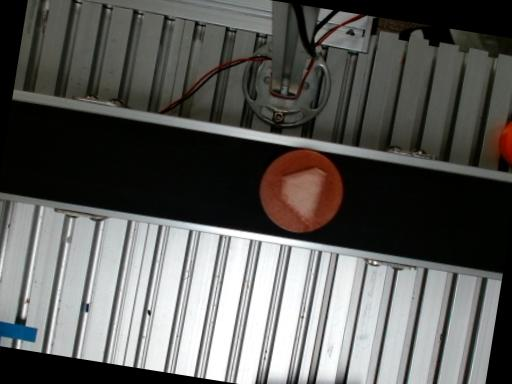Brown_Waper: (259, 150, 342, 232)
Not_Square: (281, 167, 325, 228)
